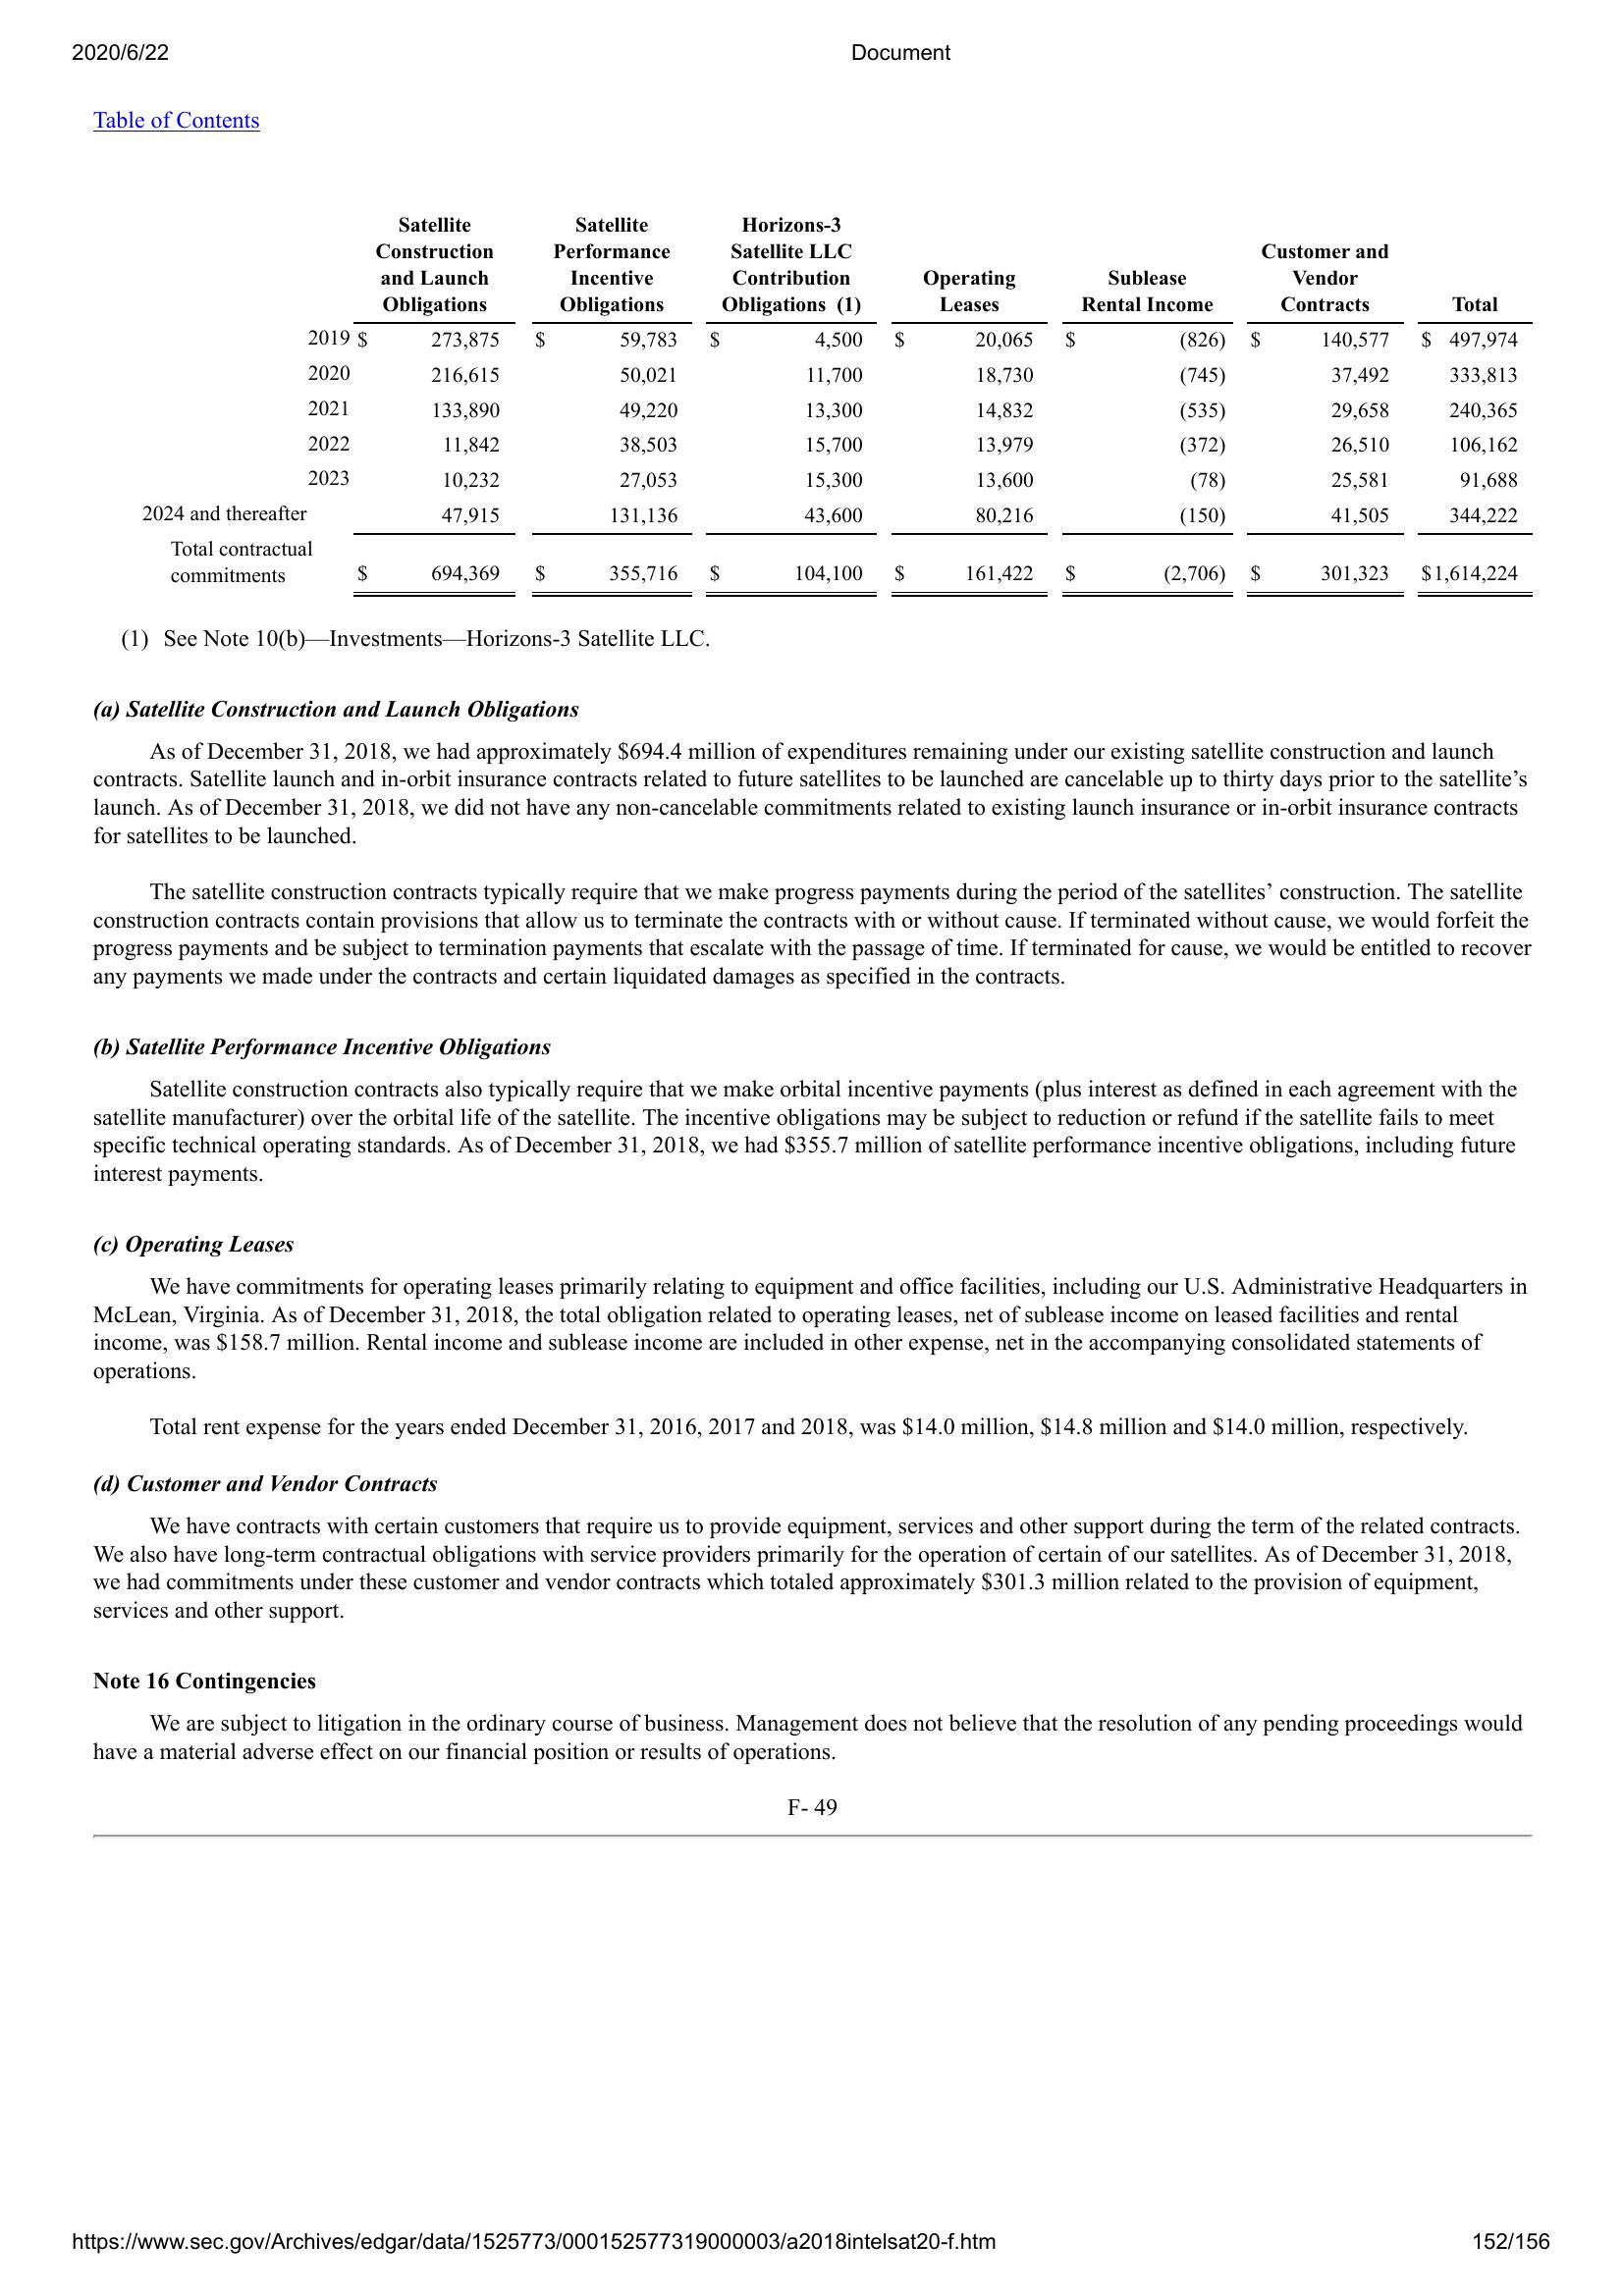table: (132, 205, 1535, 604)
